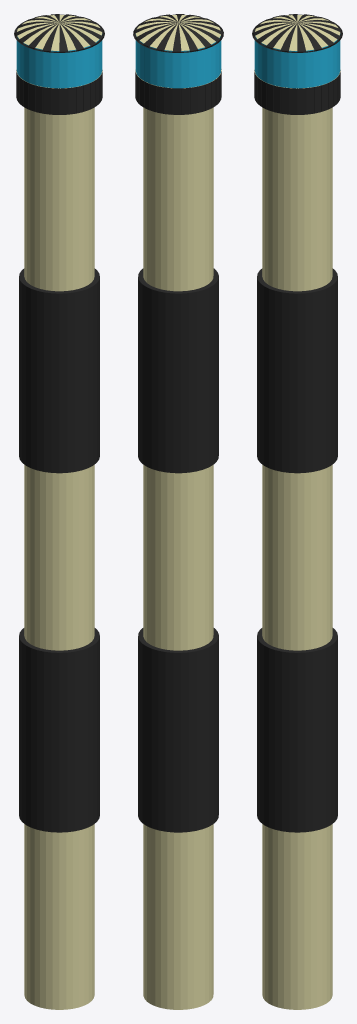
The model's file is Water_Stick.fbx.
3 views of the same model, side by side, from view 1: azimuth 90°, elevation 25°; view 2: azimuth 150°, elevation 25°; view 3: azimuth 270°, elevation 25° (orthographic).
Visible parts, largest first — view 1: Cylinder.014; view 2: Cylinder.014; view 3: Cylinder.014.
Boxes of the visible parts, left/top/right/bottom form: Cylinder.014: left=14, top=14, right=104, bottom=1009; Cylinder.014: left=133, top=14, right=223, bottom=1009; Cylinder.014: left=252, top=14, right=342, bottom=1009.
Bounding box in the file's own units: 0.0428 × 0.5044 × 0.0428.
